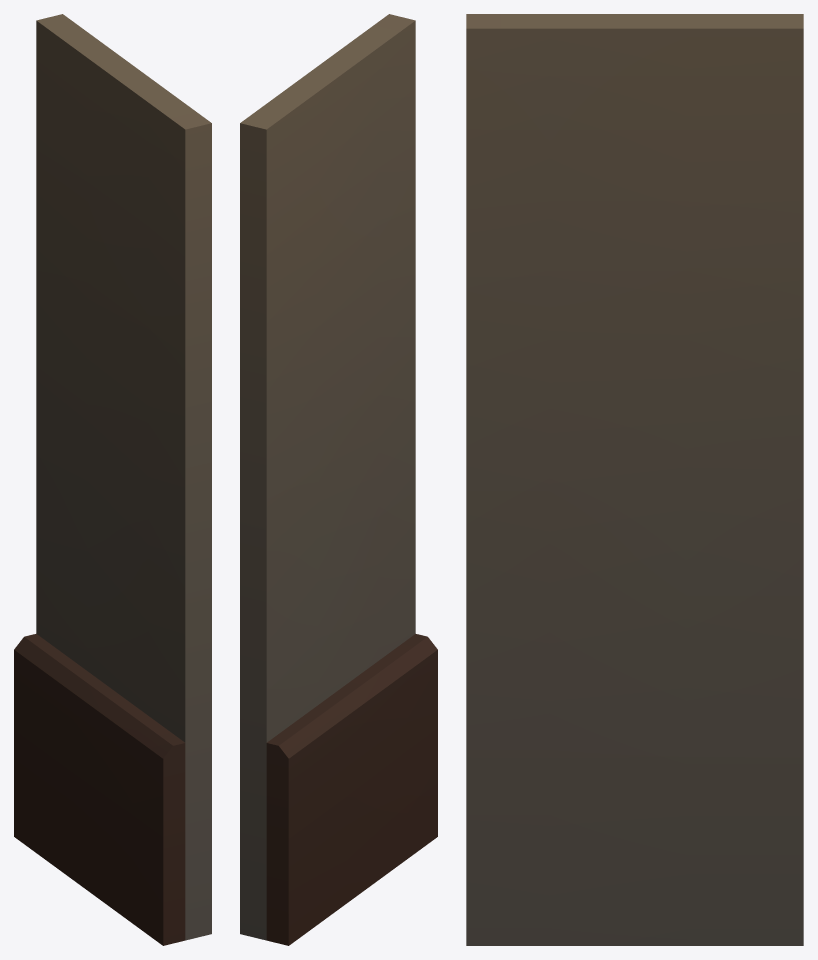
The model's file is SM_Brown_WallB_full.fbx.
3 views of the same model, side by side, from view 1: azimuth 30°, elevation 25°; view 2: azimuth 150°, elevation 25°; view 3: azimuth 270°, elevation 25° (orthographic). The views are drawn at different scales.
Parts seen in each view (by area): view 1: SM_Brown_WallB_full; view 2: SM_Brown_WallB_full; view 3: SM_Brown_WallB_full.
Boxes of the visible parts, bbox=[...] form: SM_Brown_WallB_full: bbox=[14, 14, 211, 945]; SM_Brown_WallB_full: bbox=[240, 14, 437, 945]; SM_Brown_WallB_full: bbox=[466, 14, 803, 945].
Size of the model in its own units: 0.3773 by 2 by 6.
